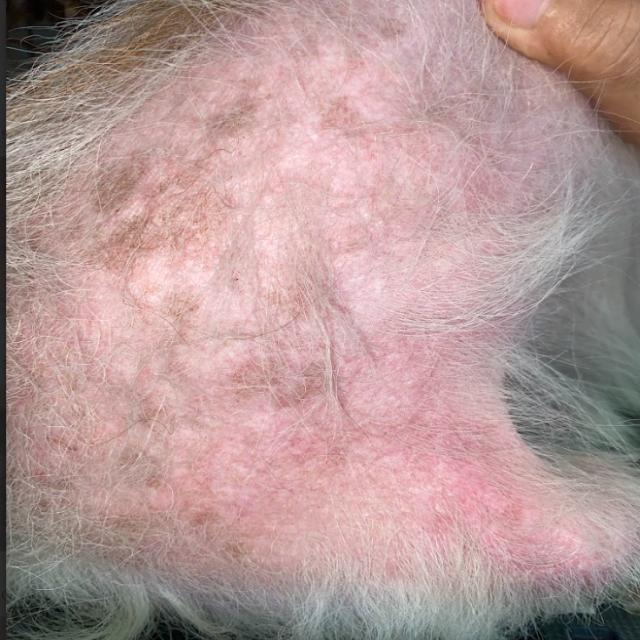demodicosis: (82, 89, 507, 591)
